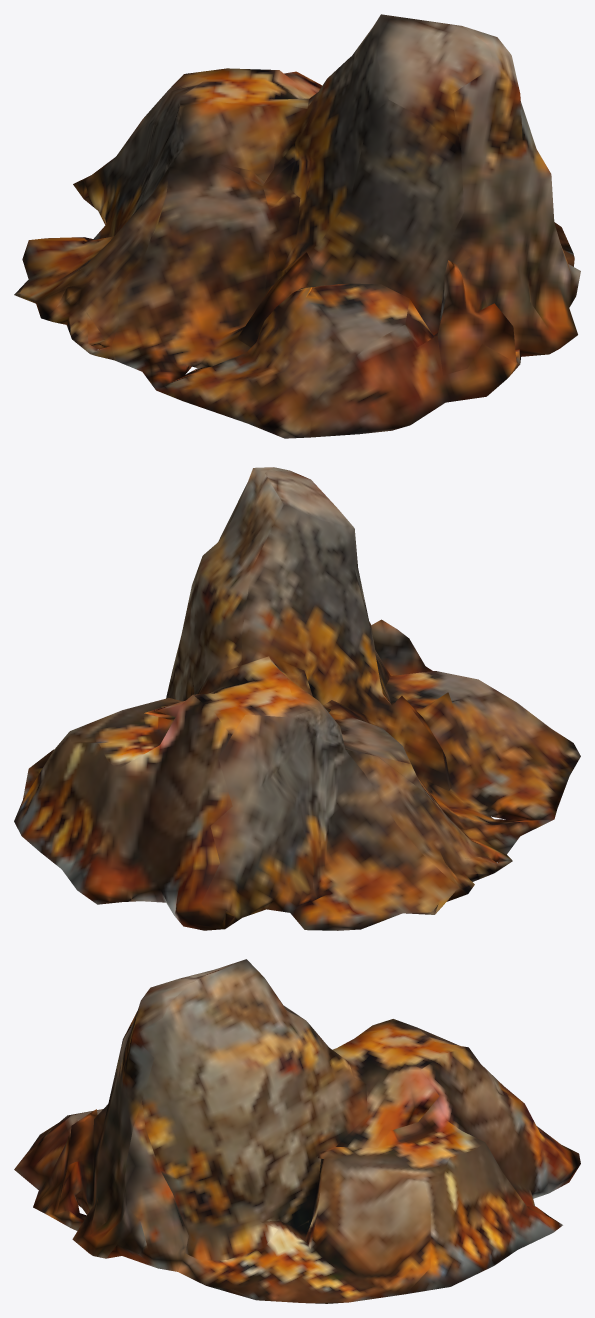
The model's file is FallDecor_BossRoom_BrokenStump.fbx.
3 renders of one model, top to bottom at view 1: azimuth 30°, elevation 25°; view 2: azimuth 150°, elevation 25°; view 3: azimuth 270°, elevation 25°, orthographic. The views are drawn at different scales.
Visible parts, largest first — view 1: FallDecor_BossRoom_BrokenStump_Mesh; view 2: FallDecor_BossRoom_BrokenStump_Mesh; view 3: FallDecor_BossRoom_BrokenStump_Mesh.
Part boxes in pixels (left/top/right/bottom): FallDecor_BossRoom_BrokenStump_Mesh: left=14, top=14, right=580, bottom=438; FallDecor_BossRoom_BrokenStump_Mesh: left=14, top=467, right=580, bottom=930; FallDecor_BossRoom_BrokenStump_Mesh: left=14, top=959, right=580, bottom=1303.
Size of the model in its own units: 5.15 by 3.05 by 6.
Materials: 1 (1 with a texture image).
